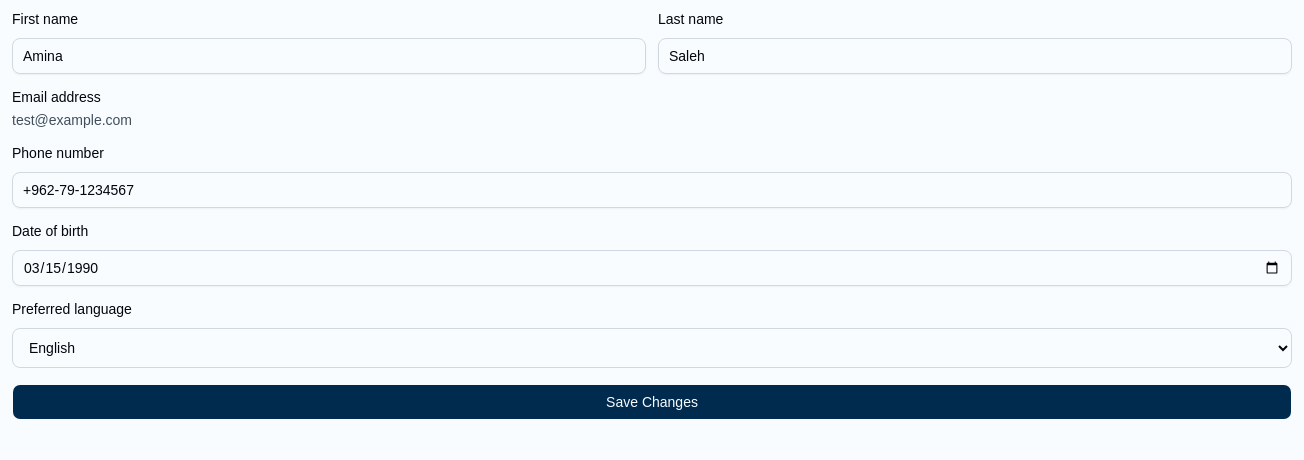
Test: ProfileForm field rendering and validation › shows invalid date-of-birth error on future date (PF-006)
The image size is (1304, 460).
Type "3000-01-01" into the date field labelled "Date of birth" at (652,268), box left=12, top=250, right=1292, bottom=286
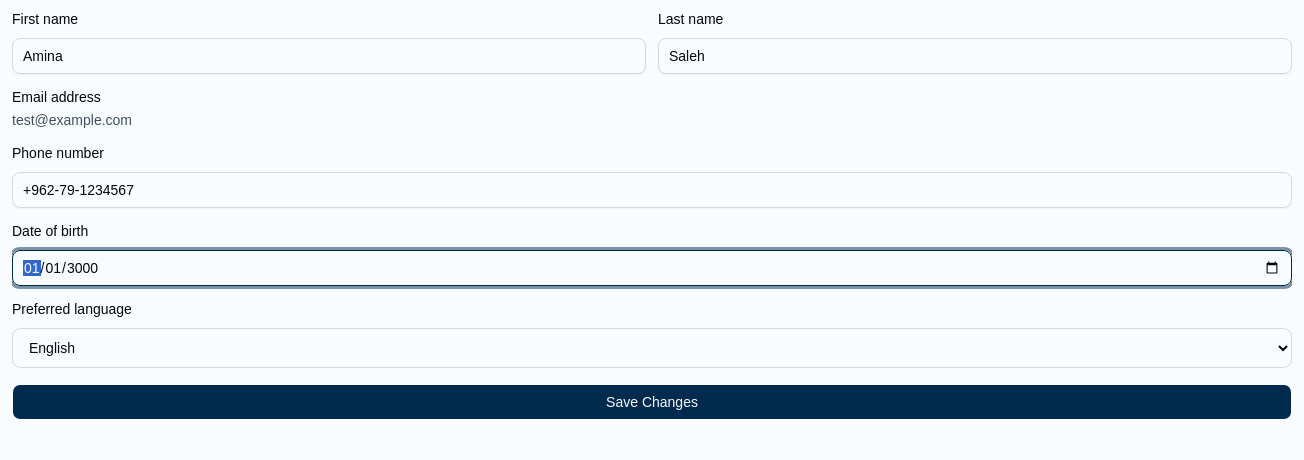
Click the button "Save Changes" at (652,402), box left=12, top=384, right=1292, bottom=420
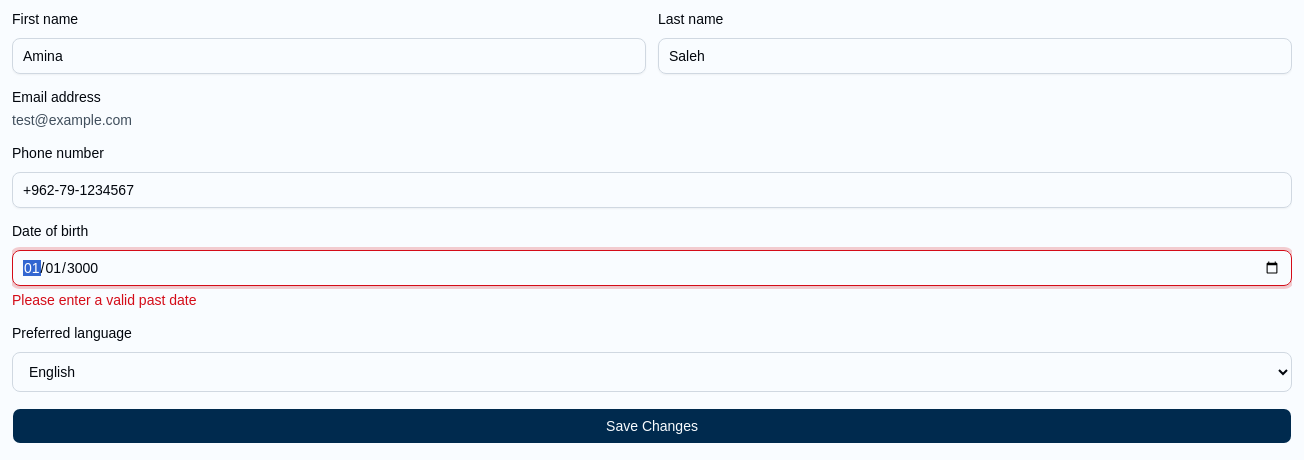
Now the text "Please enter a valid past date" is shown, box left=12, top=292, right=196, bottom=308
